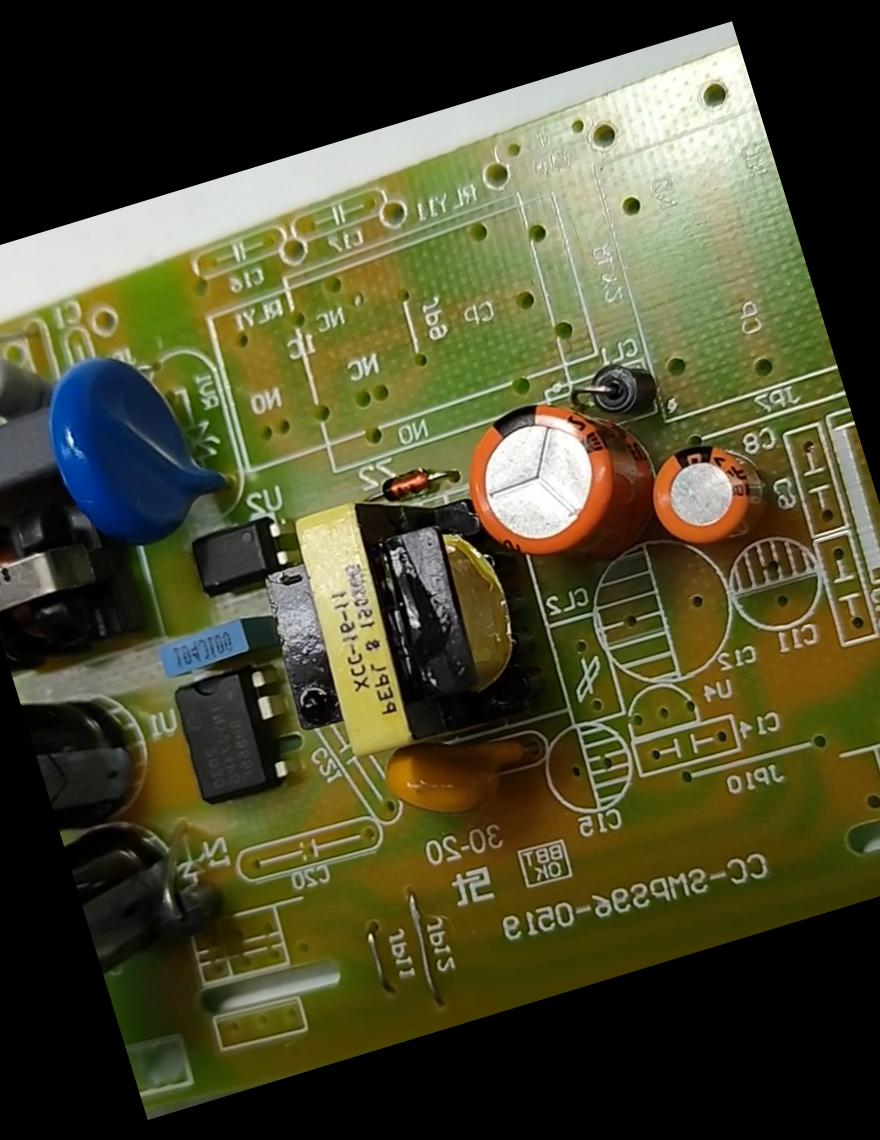Cap1: (440, 373, 671, 588)
Cap2: (627, 418, 779, 566)
Cap3: (12, 645, 161, 834)
Cap4: (64, 810, 221, 997)
MOSFET: (154, 645, 298, 816)
Mov: (27, 327, 242, 563)
Resistor: (0, 327, 63, 443)
Transformer: (241, 449, 559, 786), (0, 470, 155, 687)
